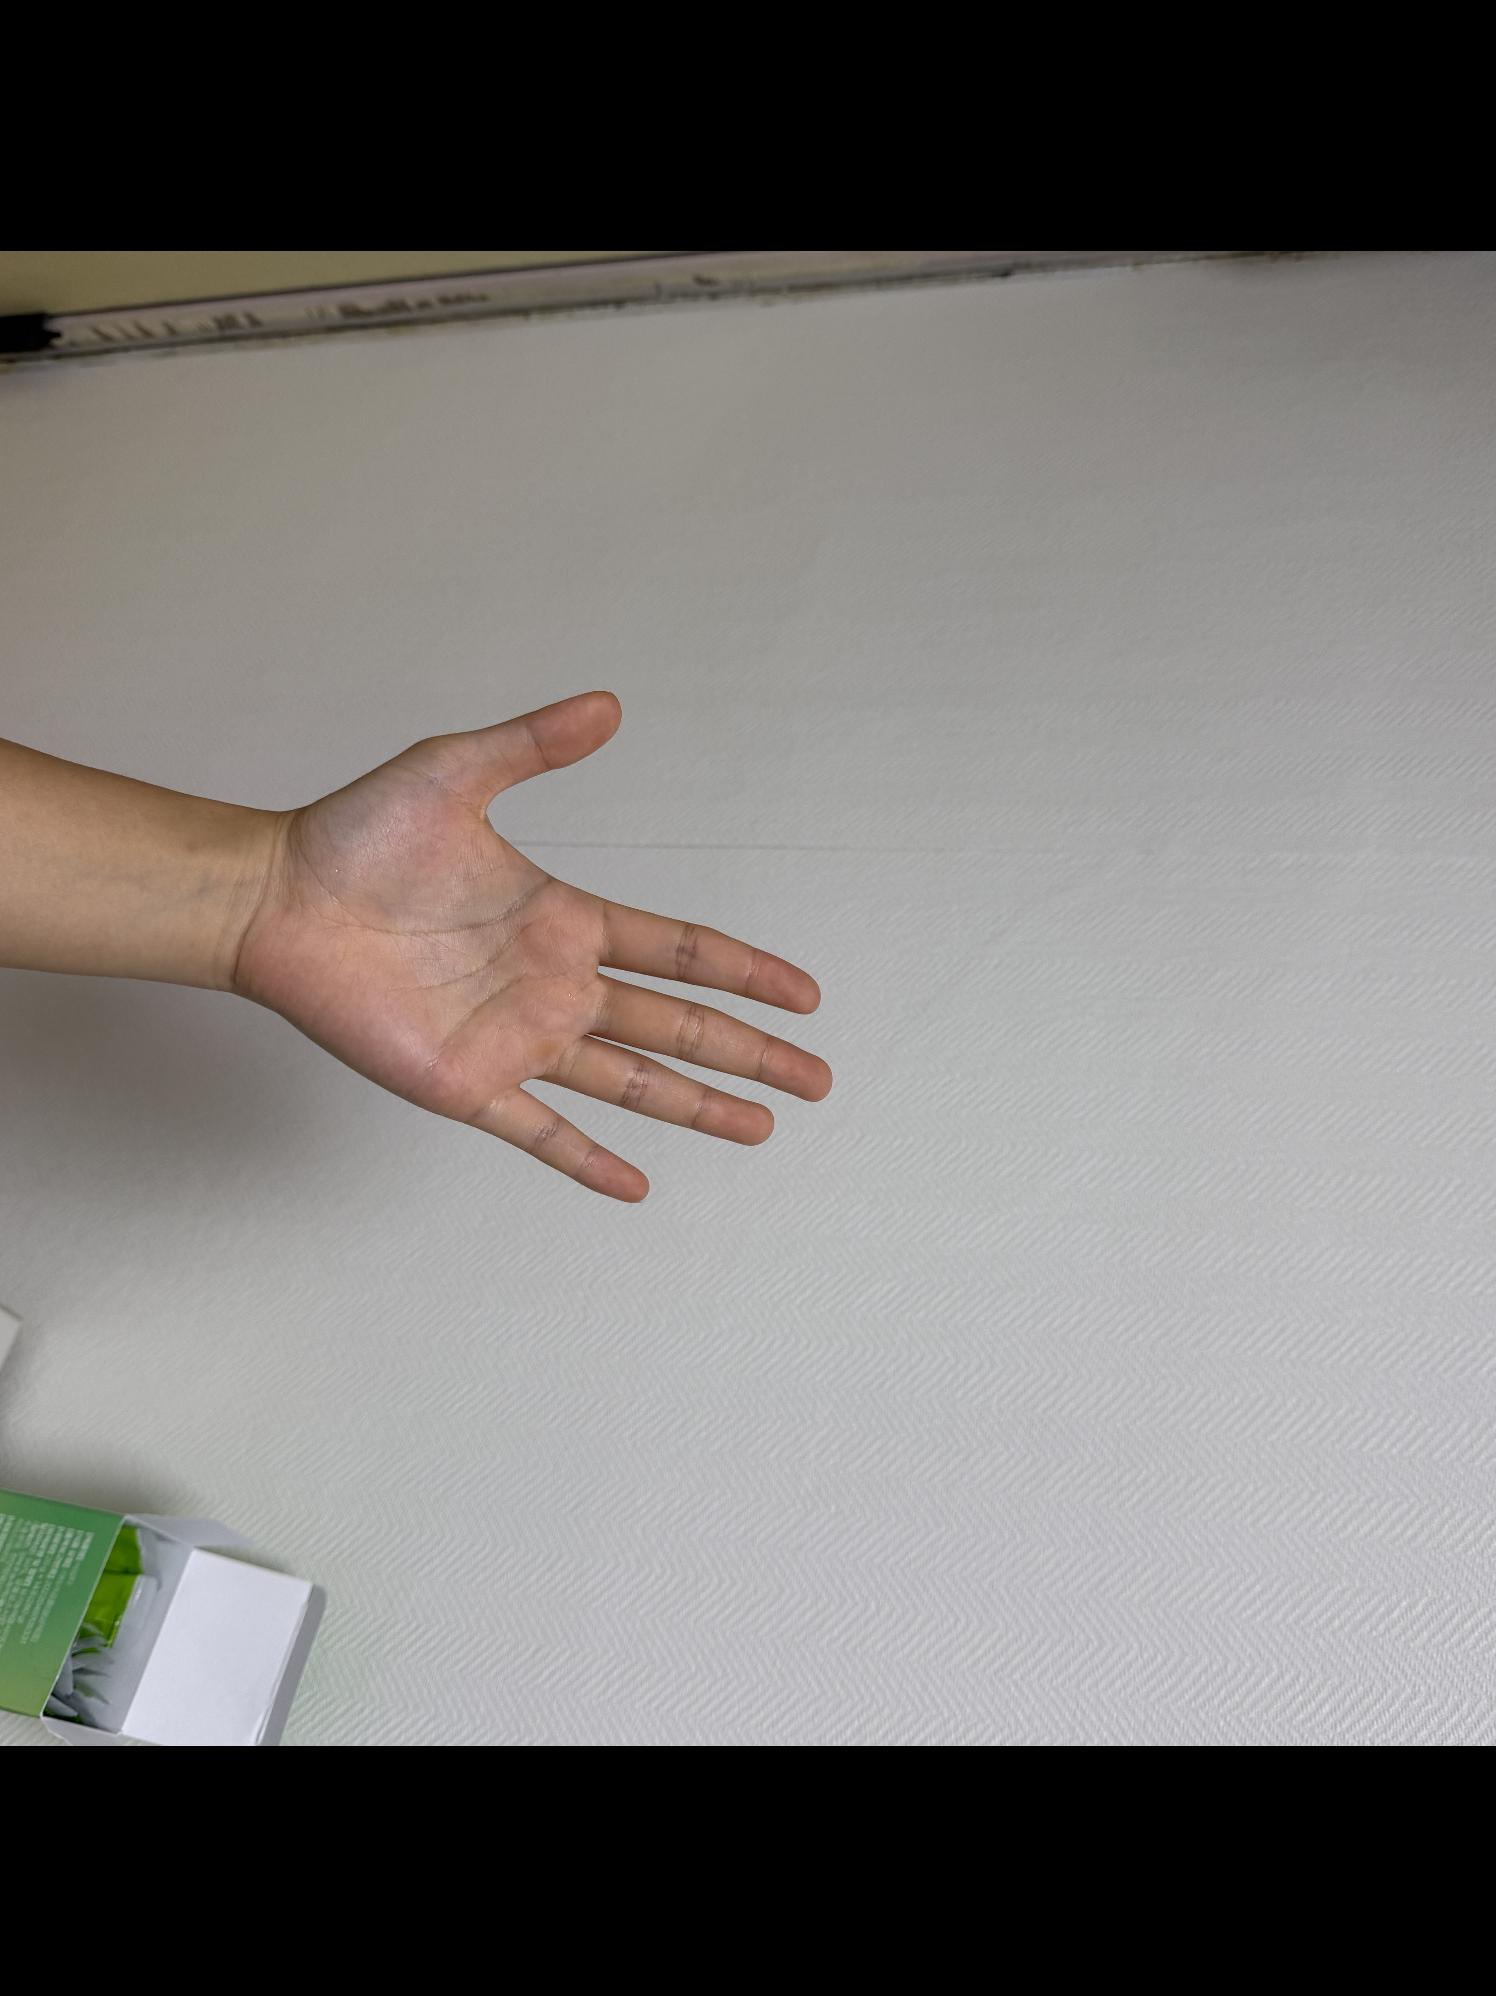open: (211, 676, 841, 1218)
